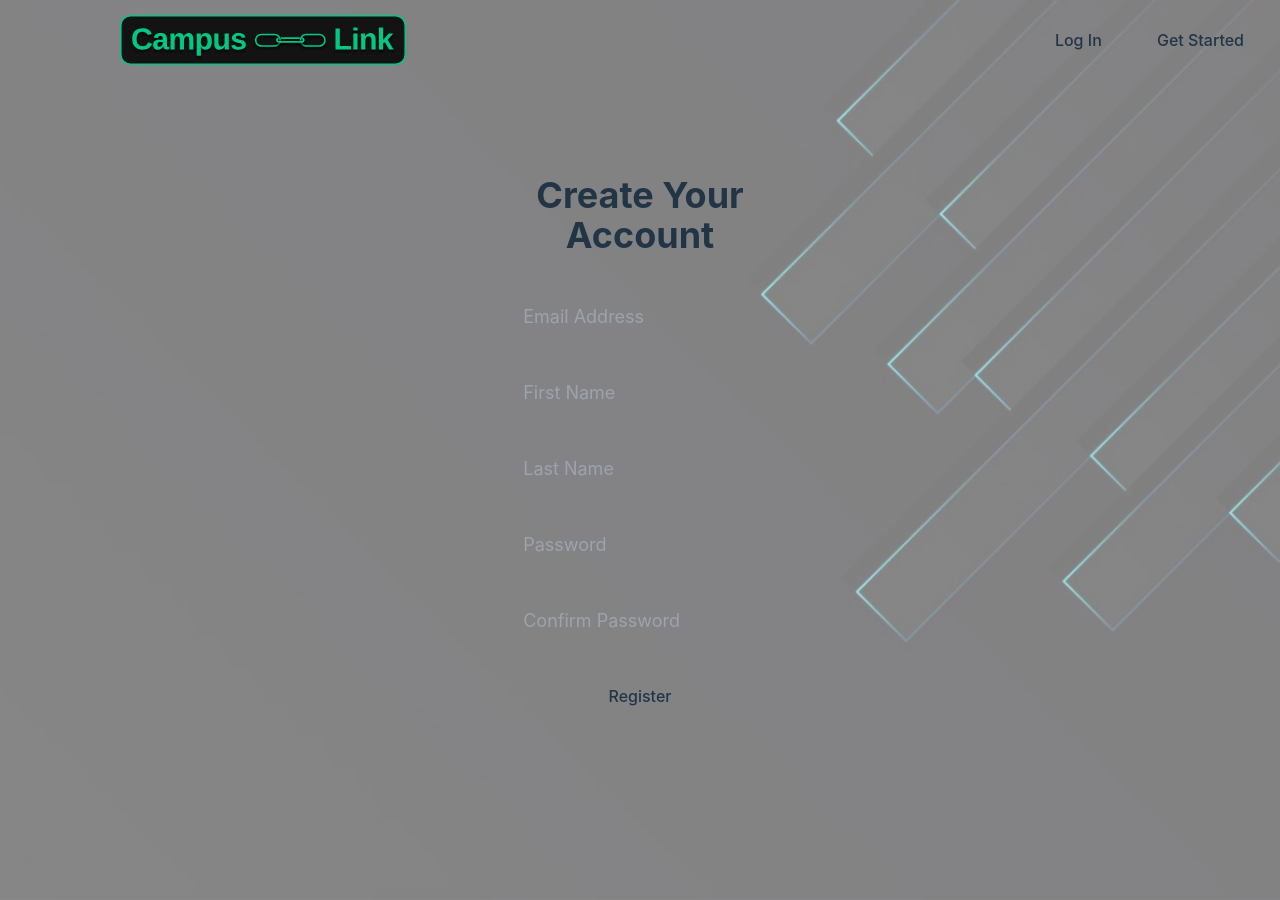
Scenario: Register Page UI Tests › shows error message on failed registration
In the field with placeholder "Email Address": [640, 317] box [507, 287, 773, 347], type "test@example.com"
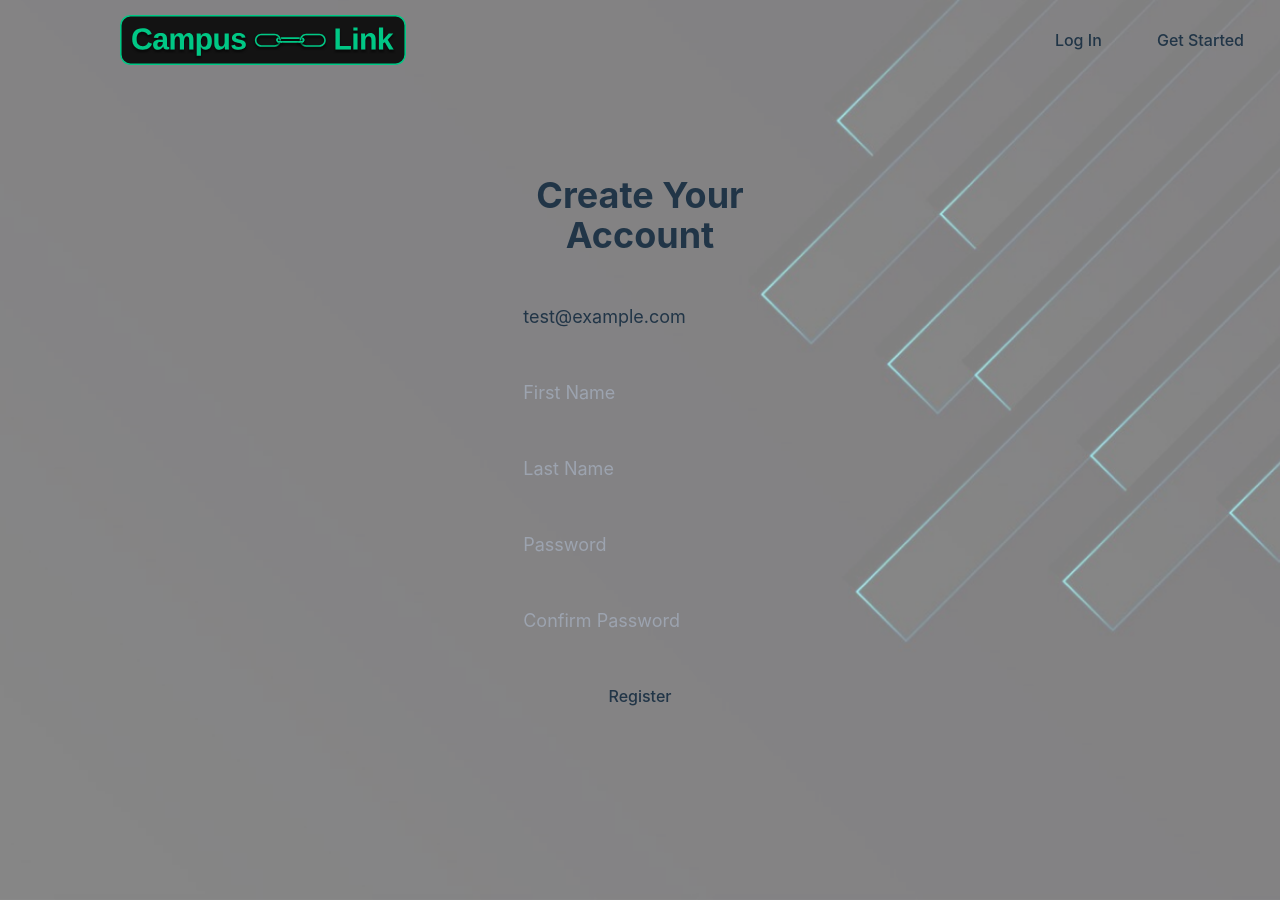
In the password field with placeholder "Password": [640, 545] box [507, 515, 773, 575], type "TestPass123"
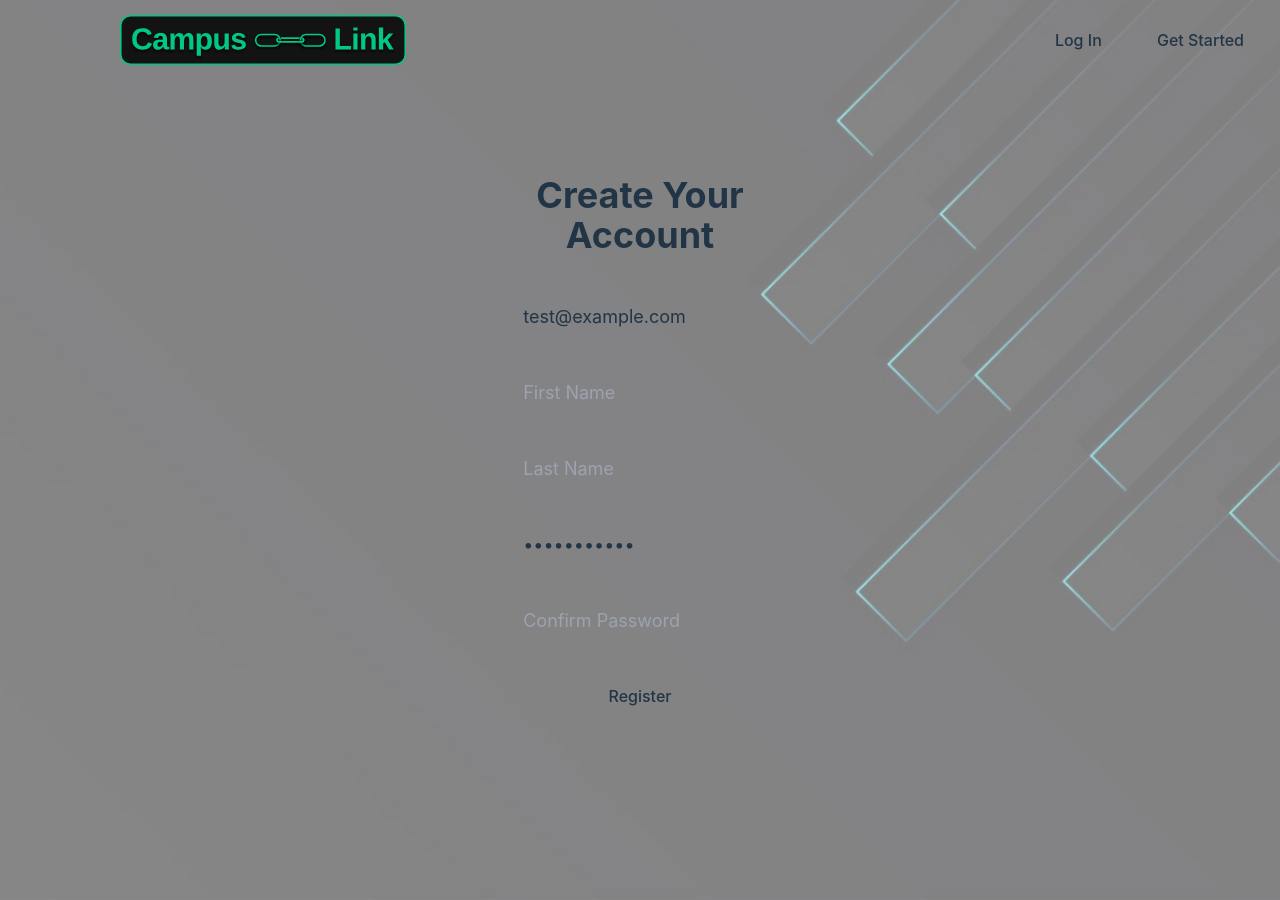
In the password field with placeholder "Confirm Password": [640, 621] box [507, 591, 773, 651], type "TestPass123"
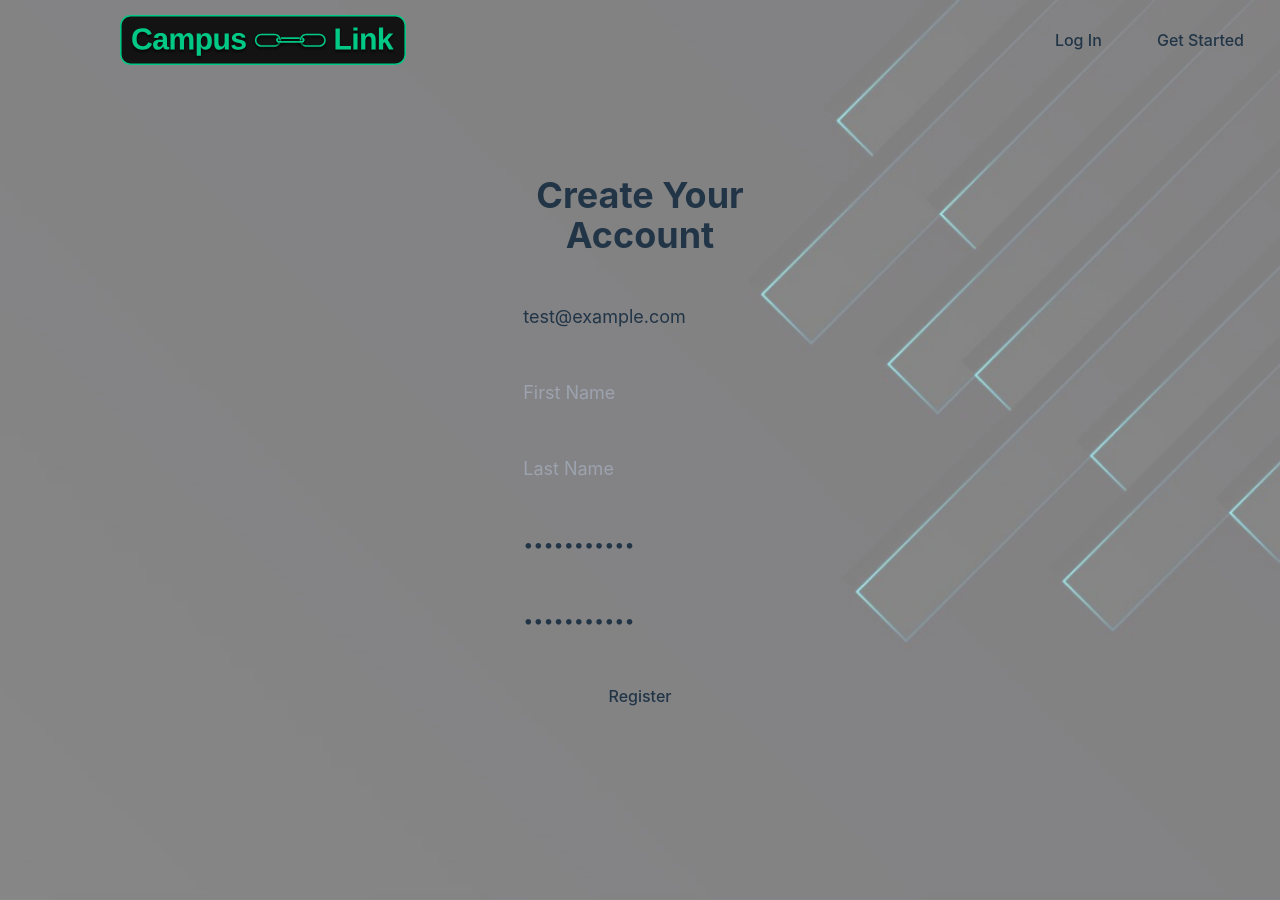
Click the button "Register": [640, 696] box [507, 667, 773, 725]
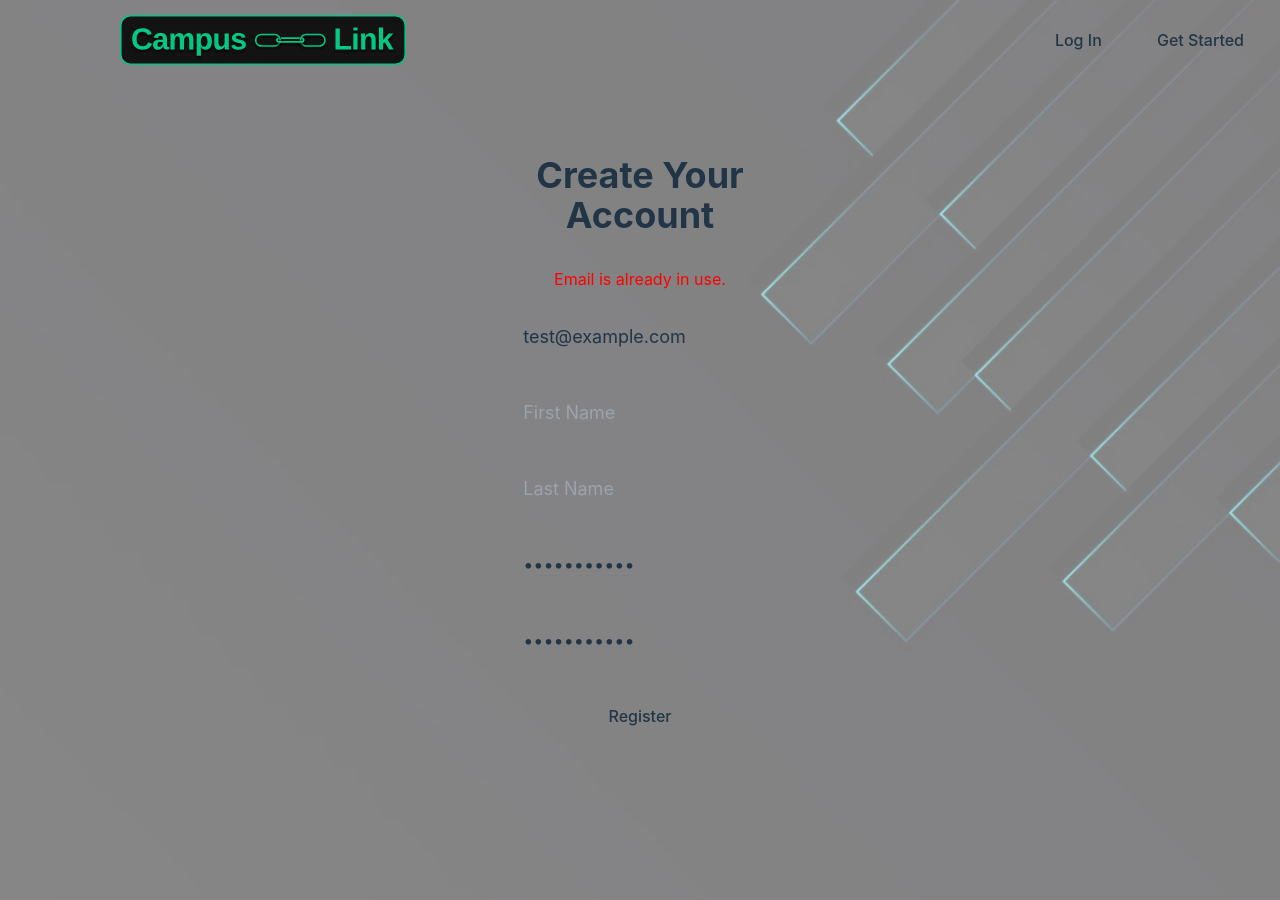
Check: the text "Email is already in use." is shown, box [554, 267, 726, 291]
